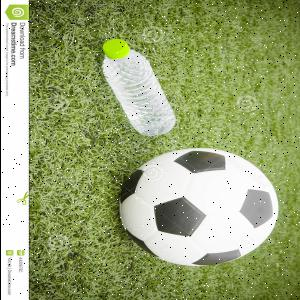Plastic-bottle: (100, 40, 178, 138)
